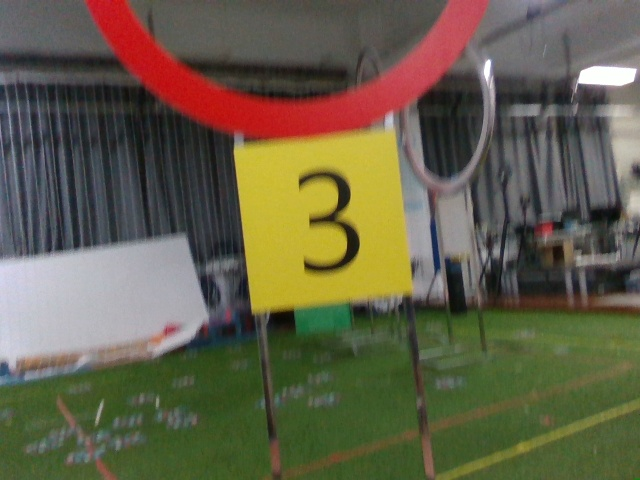target: (243, 139, 405, 298)
